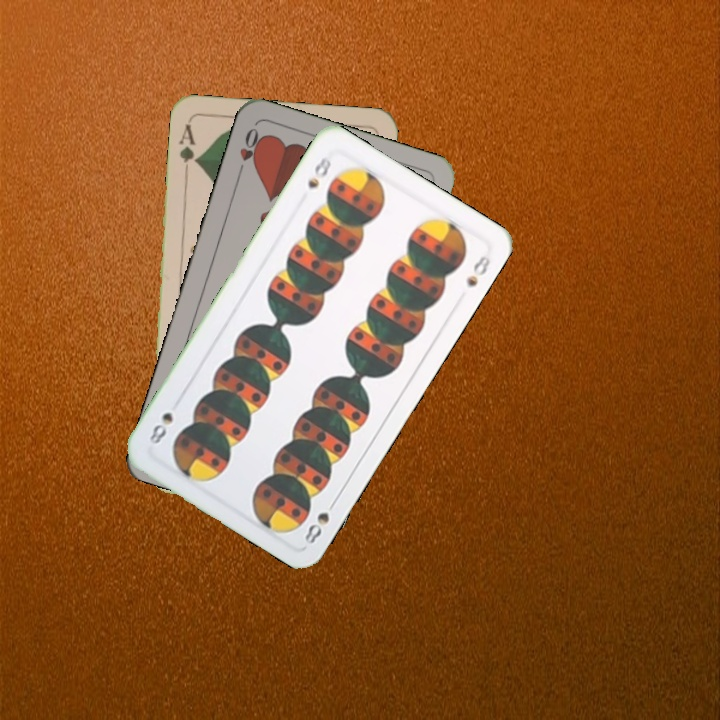GA: (175, 120, 201, 178)
HO: (233, 123, 265, 180)
S8: (300, 494, 340, 547), (303, 150, 334, 192)
